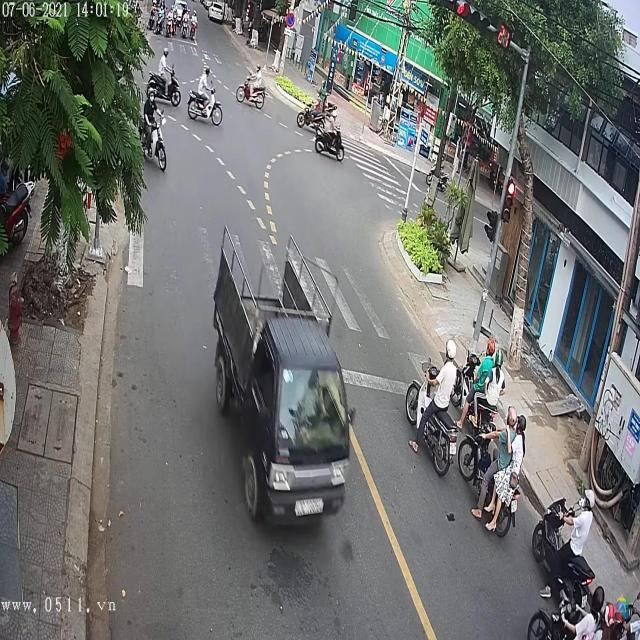car: (207, 4, 225, 23)
motorcycle: (532, 490, 594, 614), (413, 345, 469, 477), (459, 415, 518, 535), (186, 88, 221, 124), (313, 126, 342, 162), (236, 77, 265, 109)
truck: (208, 206, 360, 533)
